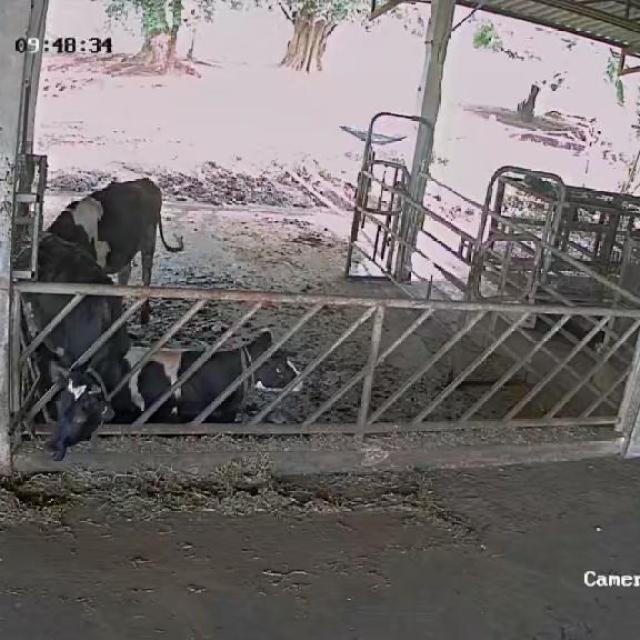feeding: (15, 225, 136, 476)
lying down: (119, 320, 307, 442)
standing: (40, 171, 190, 330)
